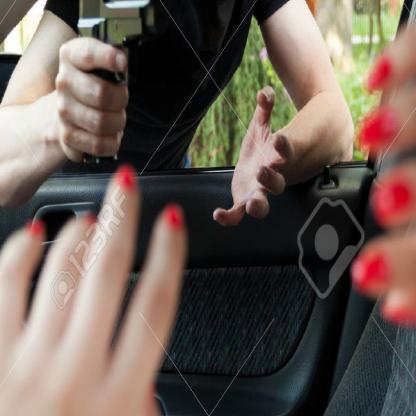gun: (75, 0, 163, 166)
